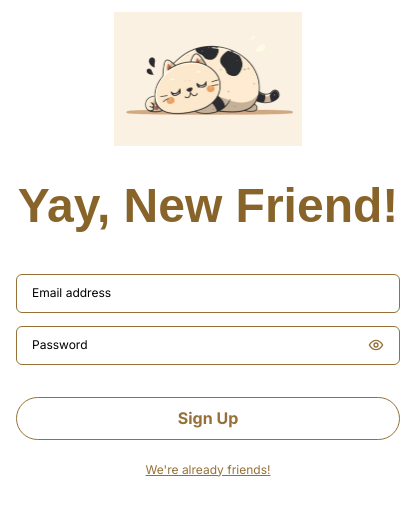
Test: RegisterPage › shows generic error on unexpected failure
Type "newuser@example.com" into the field labelled "Email address" at (208, 293), box x1=32 y1=284 x2=384 y2=302
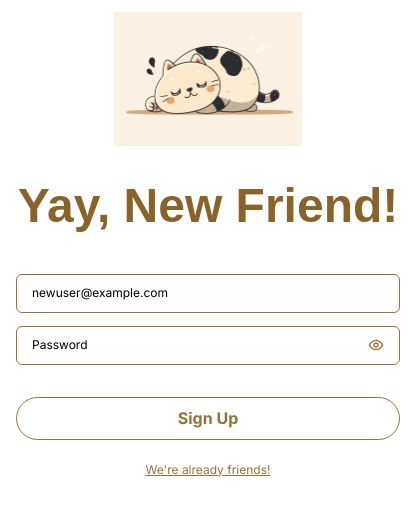
Type "validpassword123" into the password field labelled "Password" at (196, 345), box x1=32 y1=336 x2=360 y2=354
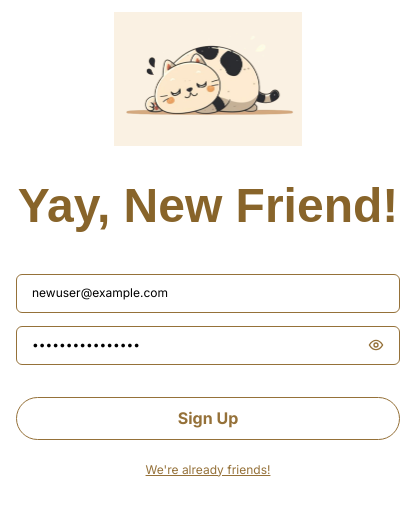
Click the button "Sign Up" at (208, 418), box x1=16 y1=397 x2=400 y2=440
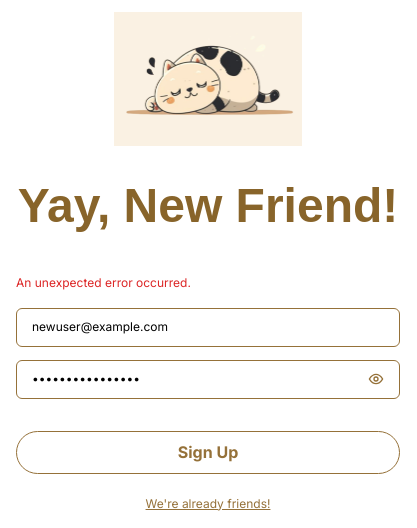
expect the text "An unexpected error occurred." is shown: met, box x1=16 y1=275 x2=191 y2=290
